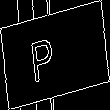P_N: (41, 27, 69, 83)
